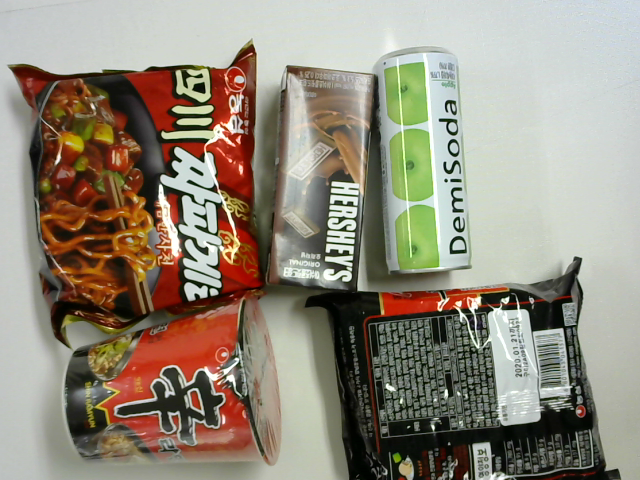Demisoda_Apple_Can_250ml: (373, 44, 479, 276)
Hush_Choco_Drink: (267, 60, 373, 290)
Sichuan_Chapaghetti: (5, 56, 261, 330)
Sinramen_Black: (307, 268, 618, 480)
Sinramen_small: (55, 298, 283, 464)
